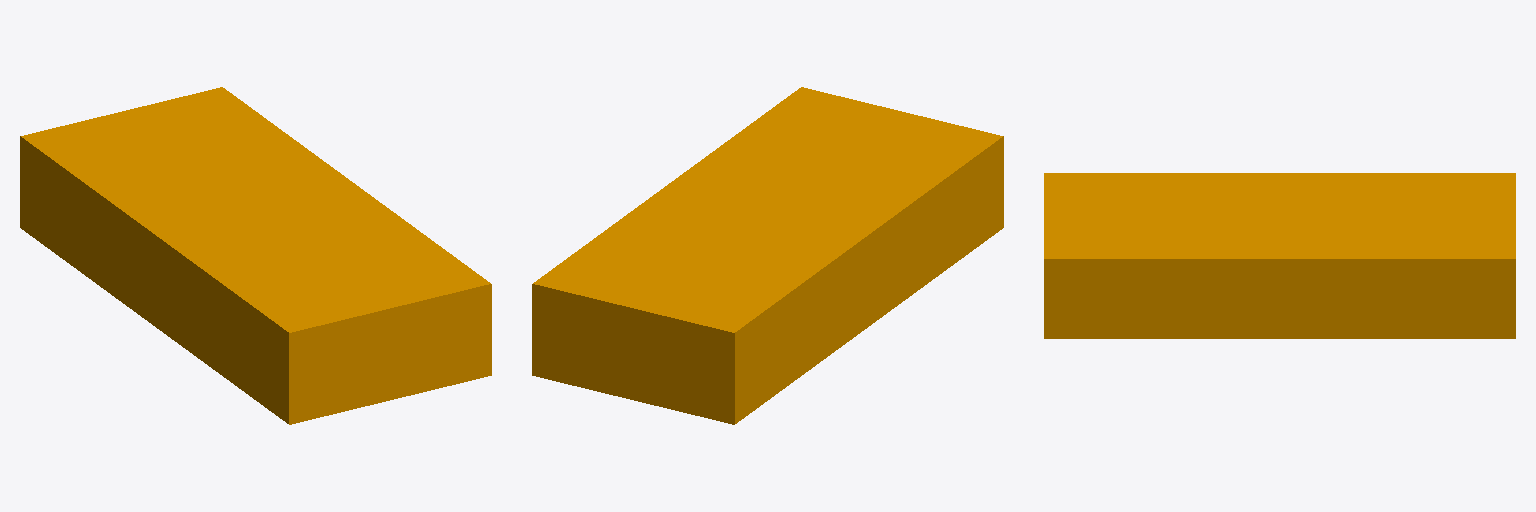
The robot description file, URDF, robot "engine_taller.off":
<?xml version="1.0"?>
<robot name="engine_taller.off">
	<link name="engine_taller.off">
		<inertial>
			<!--origin xyz="0 0 0" rpy="0 0 0" /-->
			<mass value="0.5" />
			<!--inertia ixx="0.000360" ixy="0" ixz="0" iyy="0.0000615" iyz="0" izz="0.00036" /-->
		</inertial>
    		<visual>
	      		<!--origin rpy="0 0 0" xyz="0 0 0"/-->
      			<geometry>
        			<mesh filename="engine_taller.off.obj"/>
      			</geometry>
         	</visual>
    		<collision>
      			<!--origin rpy="0 0 0" xyz="0 0 0"/-->
      			<geometry>
        			<mesh filename="engine_taller.off.obj"/>
      			</geometry>
    		</collision>
	</link>
</robot>

--- Render facts (derived) ---
3 views of the same robot in one strip: view 1: azimuth 30°, elevation 25°; view 2: azimuth 150°, elevation 25°; view 3: azimuth 270°, elevation 25° (orthographic).
Robot: engine_taller.off — 1 links, 0 joints (none); root link engine_taller.off; default pose: all joints at 0.
Visible links, largest first — view 1: engine_taller.off; view 2: engine_taller.off; view 3: engine_taller.off.
Boxes of the visible links, box(x1,y1,x2,y2) form: engine_taller.off: box(20, 87, 491, 424); engine_taller.off: box(532, 87, 1003, 424); engine_taller.off: box(1044, 173, 1515, 338).
Size in the robot's own frame: 46 by 106 by 20 metres.
1 mesh visuals loaded from 1 distinct referenced files (1 OBJ).